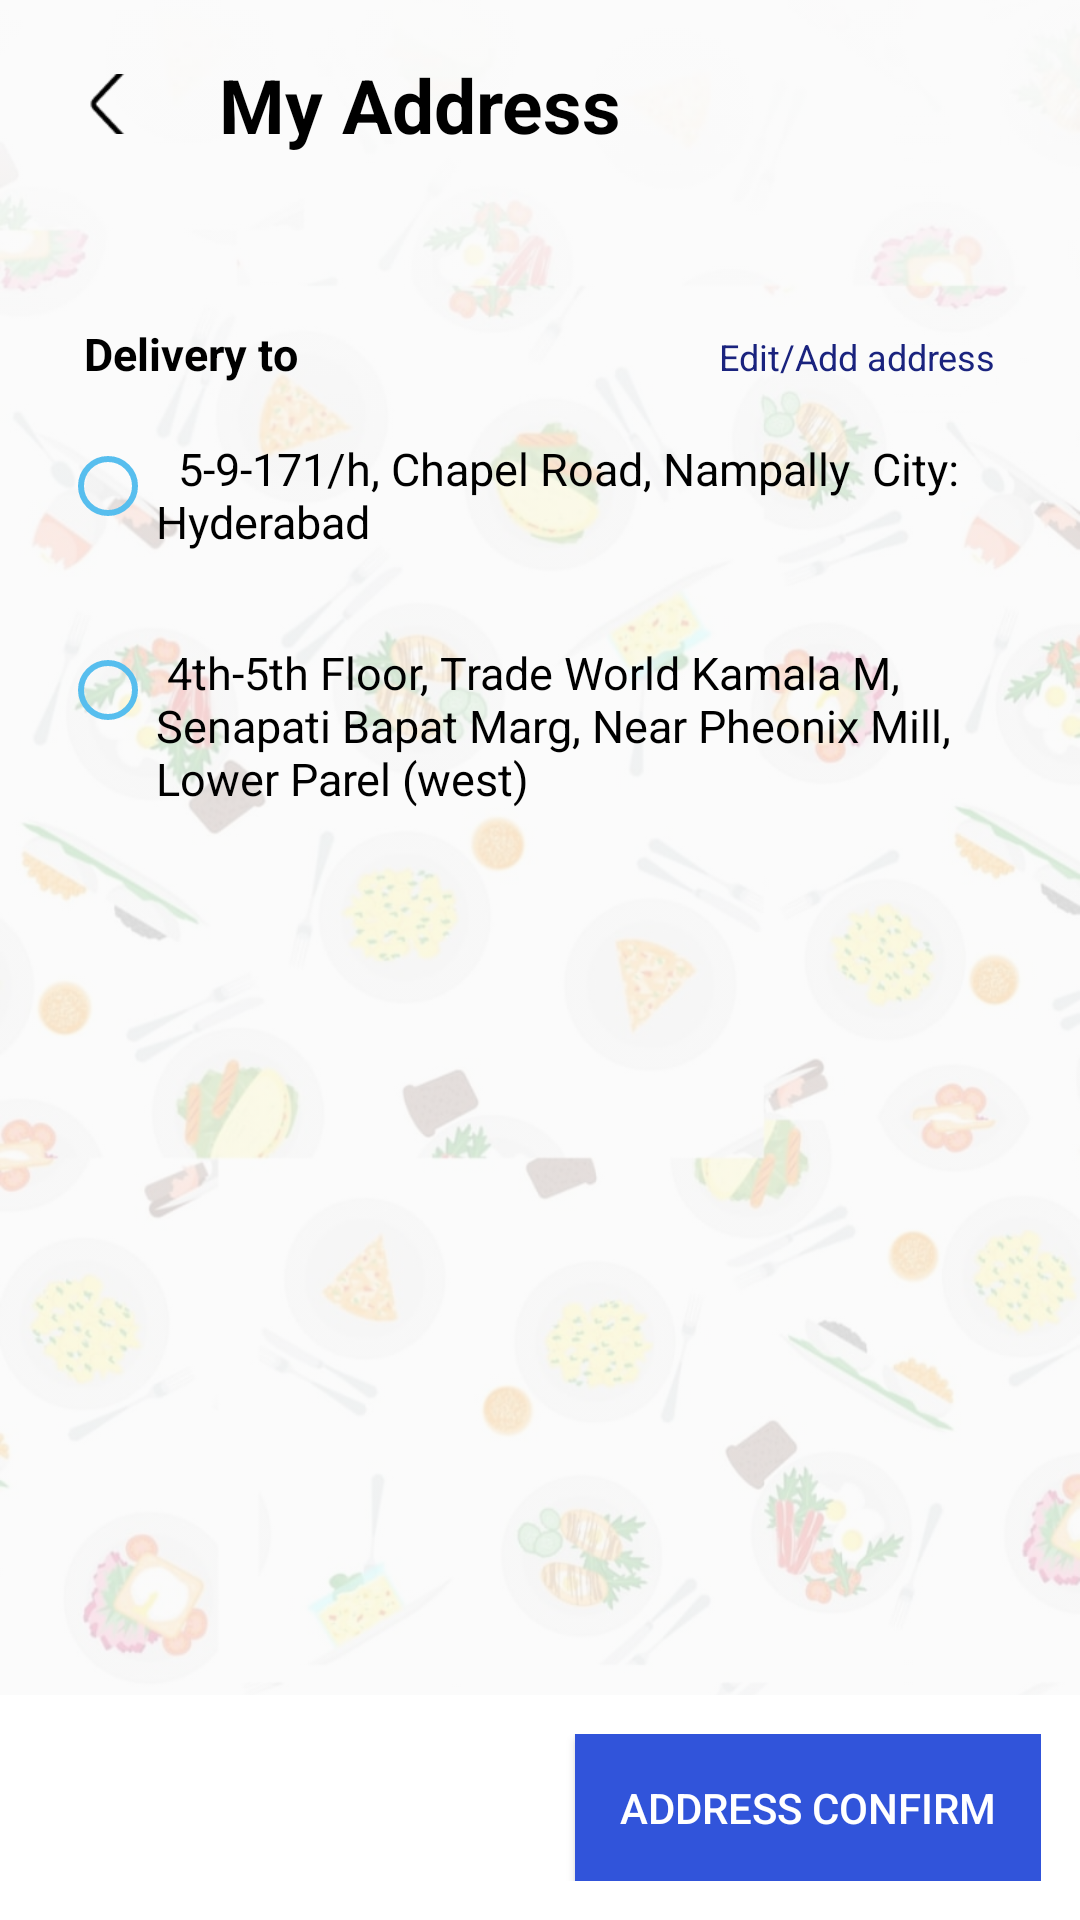

Screen size 1080x1920. Icon name, then its box in pixels as (x1, y1, x2, y2):
left: (90, 74, 124, 134)
